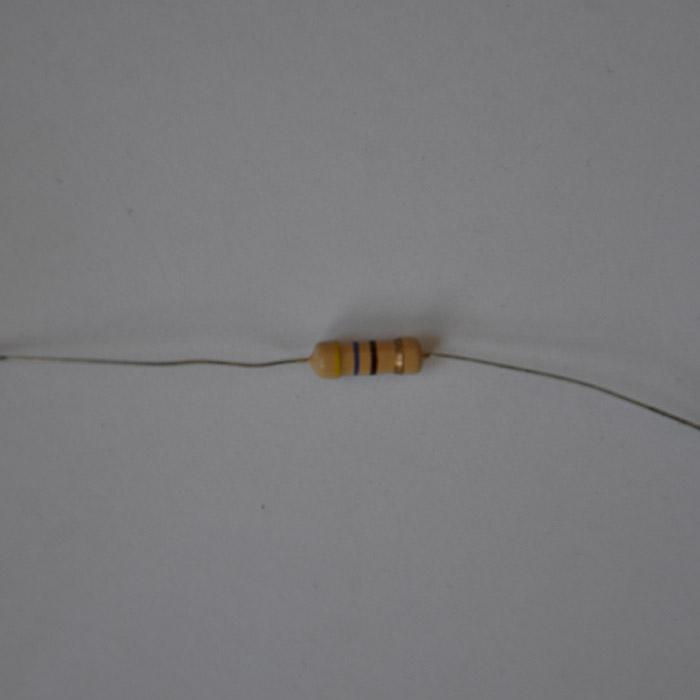resistor: (336, 272, 379, 391)
